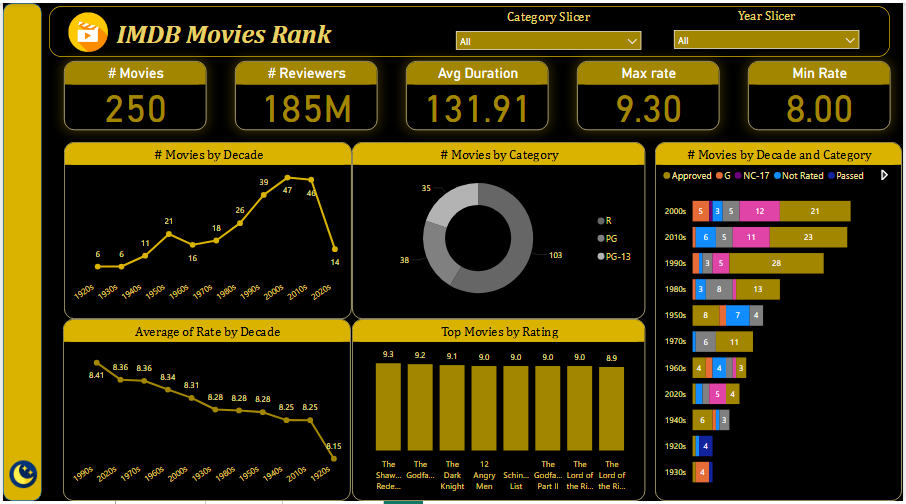

Layout of this report page (visuals, bound fields, positions):
{"tool":"powerbi","page":{"name":"Dark Mode","canvas":[1300,720],"ordinal":2},"visuals":[{"type":"shape","box":[66.5,4.3,1215.9,73.7],"z":0},{"type":"shape","box":[0,0,56,720],"z":1000},{"type":"textbox","box":[155.7,17.3,325.3,54.9],"z":2000,"group":"g2"},{"type":"donutChart","fields":{"Category":["Top250Movies.Category"],"Y":["Dax_MEs.# Movies"]},"box":[504.6,201,423.6,255.9],"z":2000},{"type":"card","title":"# Movies","fields":{"Values":["Dax_MEs.# Movies"]},"box":[88.2,83.9,206,100],"z":3000,"group":"g1"},{"type":"lineChart","title":"Average of Rate by Decade","fields":{"Y":["Avg(Top250Movies.Rate)"],"Category":["Top250Movies.Decade"]},"box":[86.7,456.9,416.4,263.1],"z":3000},{"type":"card","title":"# Reviewers","fields":{"Values":["Dax_MEs.# Reviewers"]},"box":[335.4,83.9,206,100],"z":4000,"group":"g1"},{"type":"lineChart","fields":{"Y":["Dax_MEs.# Movies"],"Category":["Top250Movies.Decade"]},"box":[88.2,201,416.4,255.9],"z":4000},{"type":"card","title":"Avg Duration","fields":{"Values":["Dax_MEs.Avg Duration"]},"box":[582.6,83.9,206,100],"z":5000,"group":"g1"},{"type":"columnChart","title":"Top Movies by Rating","fields":{"Category":["Top250Movies.Movie"],"Y":["Dax_MEs.Max rate"]},"box":[504.6,456.9,423.6,263.1],"z":5000},{"type":"slicer","title":"Year Slicer","fields":{"Values":["Top250Movies.Year"]},"box":[960,7.2,287.7,63.6],"z":6000},{"type":"card","title":"Max rate","fields":{"Values":["Dax_MEs.Max rate"]},"box":[829.7,83.9,206,100],"z":6000,"group":"g1"},{"type":"card","title":"Min Rate","fields":{"Values":["Dax_MEs.Min Rate"]},"box":[1076.9,83.9,206,100],"z":7000,"group":"g1"},{"type":"image","box":[4,656,50,50],"z":9000},{"type":"barChart","fields":{"Y":["Dax_MEs.# Movies"],"Category":["Top250Movies.Decade"],"Series":["Top250Movies.Category"]},"box":[942.7,201,357.1,519],"z":10000},{"type":"slicer","title":"Category Slicer","fields":{"Values":["Top250Movies.Category"]},"box":[644.8,8.7,287.7,63.6],"z":11000},{"type":"group","id":"g1","title":"Group 1","box":[88.2,83.9,1194.2,99.8],"z":12000},{"type":"group","id":"g2","title":"Group 2","box":[155.7,17.3,325.3,54.9],"z":13000},{"type":"image","box":[89.6,8.7,66.5,66.5],"z":14000}]}

Visuals, with their boxes in screenshot pixels (x1, y1, x2, y2), scaled from the page's 1300x720 canvas onto the 906x504 screenshot:
shape: (left=46, top=3, right=894, bottom=55)
shape: (left=0, top=0, right=39, bottom=503)
textbox: (left=109, top=12, right=335, bottom=51)
donutChart - Top250Movies.Category x Dax_MEs.# Movies: (left=352, top=141, right=647, bottom=320)
"# Movies" card: (left=61, top=59, right=205, bottom=129)
"Average of Rate by Decade" lineChart: (left=60, top=320, right=351, bottom=503)
"# Reviewers" card: (left=234, top=59, right=377, bottom=129)
lineChart - Dax_MEs.# Movies x Top250Movies.Decade: (left=61, top=141, right=352, bottom=320)
"Avg Duration" card: (left=406, top=59, right=550, bottom=129)
"Top Movies by Rating" columnChart: (left=352, top=320, right=647, bottom=503)
"Year Slicer" slicer: (left=669, top=5, right=870, bottom=50)
"Max rate" card: (left=578, top=59, right=722, bottom=129)
"Min Rate" card: (left=751, top=59, right=894, bottom=129)
image: (left=3, top=459, right=38, bottom=494)
barChart - Dax_MEs.# Movies x Top250Movies.Decade: (left=657, top=141, right=905, bottom=503)
"Category Slicer" slicer: (left=449, top=6, right=650, bottom=51)
"Group 1" group: (left=61, top=59, right=894, bottom=129)
"Group 2" group: (left=109, top=12, right=335, bottom=51)
image: (left=62, top=6, right=109, bottom=53)
